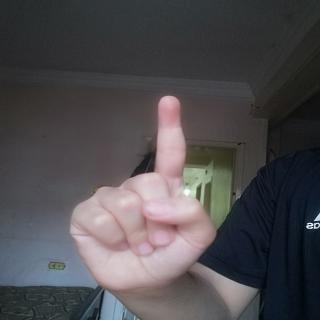BAA: (65, 89, 231, 291)
